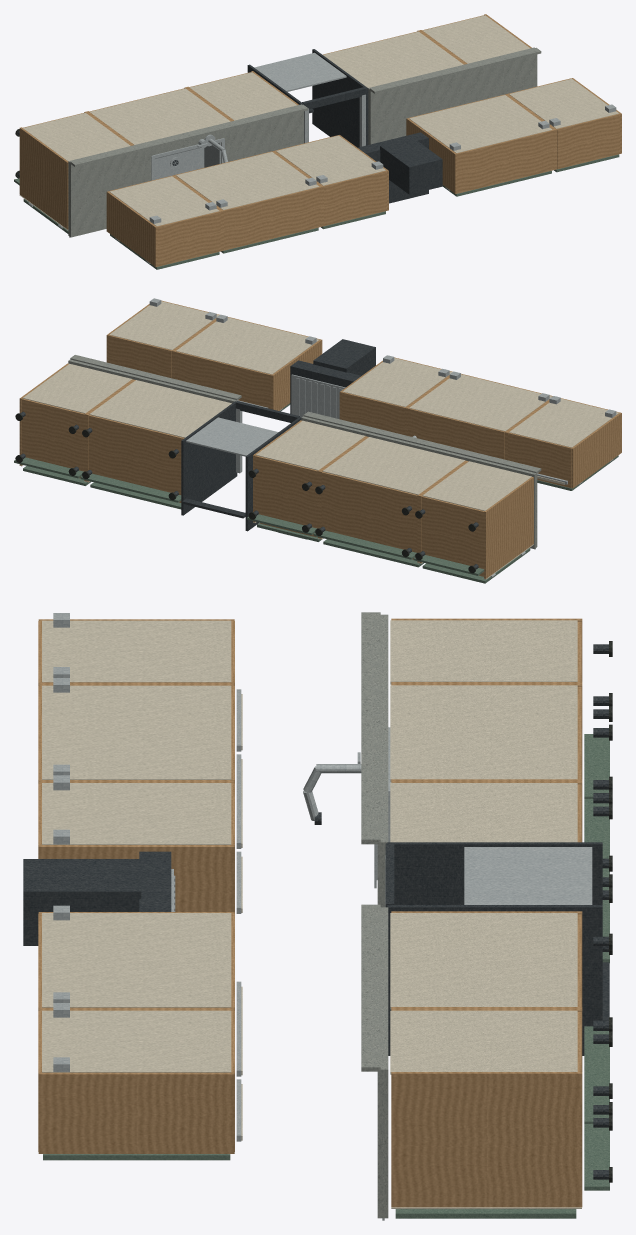
The model's file is PROJECT_Z_Kitchen_Cabinet_Set.glb.
The picture shows the model from 3 angles, top to bottom: view 1: azimuth 30°, elevation 25°; view 2: azimuth 150°, elevation 25°; view 3: azimuth 270°, elevation 25°; orthographic projection. The views are drawn at different scales.
Visible parts, largest first — view 1: UPPER_02_900_UpperBack, UPPER_05_900_UpperBack, BASE_02_Sink900_CabinetBack, BASE_05_Storage900_CabinetBack, BASE_05_Storage900_QuartzWorktop, UPPER_02_900_UpperTop, UPPER_05_900_UpperTop, BASE_01_Storage600_QuartzWorktop, BASE_01_Storage600_CarcassSide_L, UPPER_01_600_UpperBack, UPPER_03_600_UpperBack, UPPER_06_600_UpperBack (+24 smaller); view 2: BASE_02_Sink900_CabinetBottom, BASE_05_Storage900_CabinetBottom, BASE_02_Sink900_CabinetBack, BASE_05_Storage900_CabinetBack, UPPER_05_900_UpperBack, UPPER_02_900_UpperBack, BASE_01_Storage600_CabinetBottom, BASE_03_Drawers600_CabinetBottom, BASE_06_Storage600_CabinetBottom, BASE_01_Storage600_CarcassSide_L, BASE_04_StoveBay600_BayRightSupport, UPPER_05_900_UpperBottom (+33 smaller); view 3: BASE_06_Storage600_CarcassSide_R, BASE_02_Sink900_CabinetBack, UPPER_05_900_UpperBack, UPPER_02_900_UpperBack, BASE_05_Storage900_CabinetBack, UPPER_06_600_UpperSide_R, BASE_01_Storage600_CabinetBack, BASE_06_Storage600_CabinetBack, UPPER_06_600_UpperBack, UPPER_01_600_UpperBack, UPPER_03_600_UpperBack, BASE_03_Drawers600_CabinetBack (+20 smaller).
Part boxes in pixels (left/top/right/bottom): UPPER_02_900_UpperBack: left=176, top=152, right=319, bottom=210; UPPER_05_900_UpperBack: left=409, top=95, right=552, bottom=153; BASE_02_Sink900_CabinetBack: left=90, top=88, right=230, bottom=144; BASE_05_Storage900_CabinetBack: left=323, top=31, right=463, bottom=87; BASE_05_Storage900_QuartzWorktop: left=368, top=64, right=470, bottom=144; UPPER_02_900_UpperTop: left=224, top=187, right=320, bottom=250; UPPER_05_900_UpperTop: left=457, top=130, right=553, bottom=193; BASE_01_Storage600_QuartzWorktop: left=68, top=145, right=137, bottom=237; BASE_01_Storage600_CarcassSide_L: left=19, top=127, right=68, bottom=229; UPPER_01_600_UpperBack: left=109, top=176, right=219, bottom=226; UPPER_03_600_UpperBack: left=276, top=135, right=385, bottom=185; UPPER_06_600_UpperBack: left=509, top=78, right=618, bottom=128; BASE_02_Sink900_CabinetBottom: left=321, top=472, right=417, bottom=559; BASE_05_Storage900_CabinetBottom: left=88, top=415, right=184, bottom=502; BASE_02_Sink900_CabinetBack: left=322, top=437, right=465, bottom=494; BASE_05_Storage900_CabinetBack: left=89, top=380, right=231, bottom=437; UPPER_05_900_UpperBack: left=176, top=317, right=319, bottom=374; UPPER_02_900_UpperBack: left=409, top=374, right=552, bottom=431; BASE_01_Storage600_CabinetBottom: left=421, top=496, right=484, bottom=576; BASE_03_Drawers600_CabinetBottom: left=255, top=455, right=317, bottom=535; BASE_06_Storage600_CabinetBottom: left=22, top=398, right=84, bottom=478; BASE_01_Storage600_CarcassSide_L: left=484, top=477, right=533, bottom=578; BASE_04_StoveBay600_BayRightSupport: left=181, top=401, right=237, bottom=515; UPPER_05_900_UpperBottom: left=175, top=351, right=271, bottom=408; BASE_06_Storage600_CarcassSide_R: left=391, top=1072, right=582, bottom=1207; BASE_02_Sink900_CabinetBack: left=390, top=685, right=577, bottom=781; UPPER_05_900_UpperBack: left=42, top=913, right=231, bottom=1007; UPPER_02_900_UpperBack: left=42, top=685, right=231, bottom=779; BASE_05_Storage900_CabinetBack: left=390, top=913, right=577, bottom=1009; UPPER_06_600_UpperSide_R: left=38, top=1072, right=234, bottom=1153; BASE_01_Storage600_CabinetBack: left=390, top=620, right=577, bottom=684; BASE_06_Storage600_CabinetBack: left=390, top=1010, right=577, bottom=1074; UPPER_06_600_UpperBack: left=42, top=1010, right=231, bottom=1072; UPPER_01_600_UpperBack: left=42, top=620, right=231, bottom=682; UPPER_03_600_UpperBack: left=42, top=783, right=231, bottom=844; BASE_03_Drawers600_CabinetBack: left=390, top=783, right=577, bottom=842.
Bounding box in the file's own units: 4.2 × 0.7205 × 2.3.
9 materials, 9 textured.
